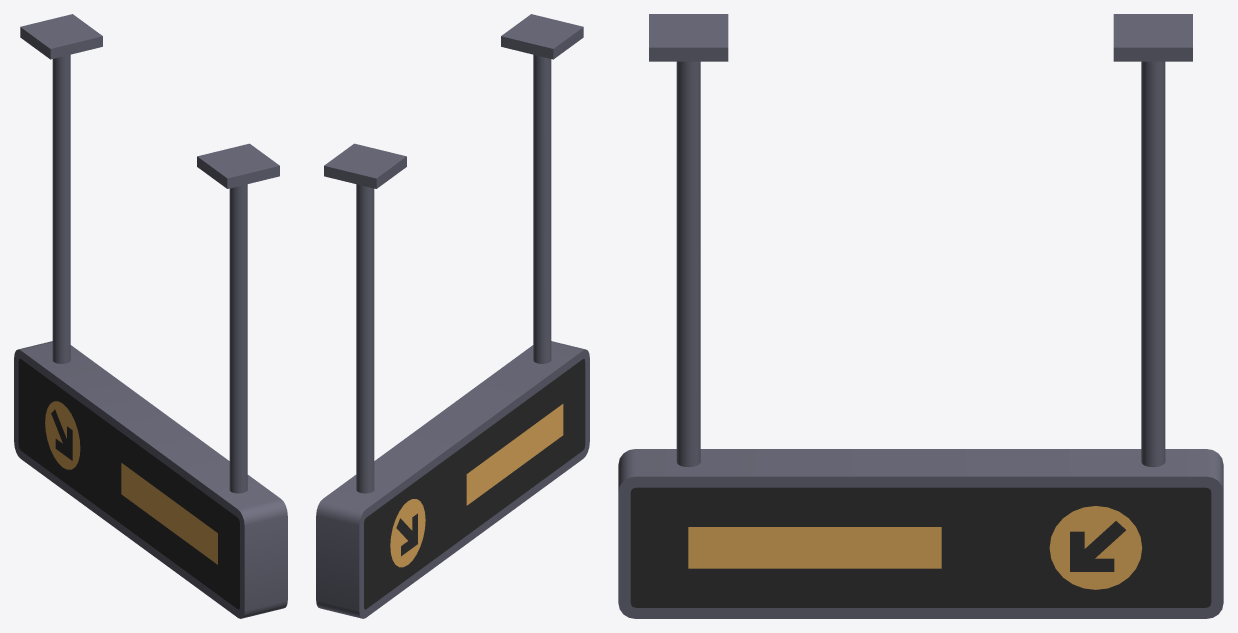
File: AirportSignAltered.fbx
3 views of the same model, side by side, from view 1: azimuth 30°, elevation 25°; view 2: azimuth 150°, elevation 25°; view 3: azimuth 270°, elevation 25° (orthographic). The views are drawn at different scales.
Parts seen in each view (by area): view 1: 17.1.Model; view 2: 17.1.Model; view 3: 17.1.Model.
Boxes of the visible parts, x1,y1,x2,y2 form: 17.1.Model: (14, 14, 287, 618); 17.1.Model: (316, 14, 589, 618); 17.1.Model: (618, 14, 1223, 618).
Size of the model in its own units: 21.31 by 169 by 162.
Materials: 1 (1 with a texture image).
